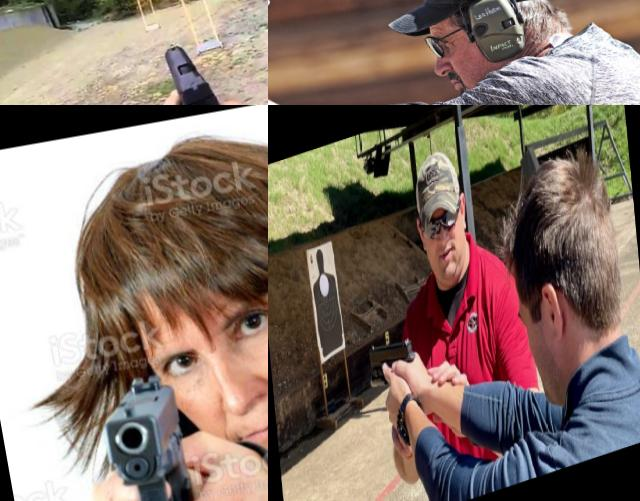handgun: (91, 366, 209, 501), (157, 29, 264, 105), (365, 327, 418, 397), (268, 70, 336, 105)
